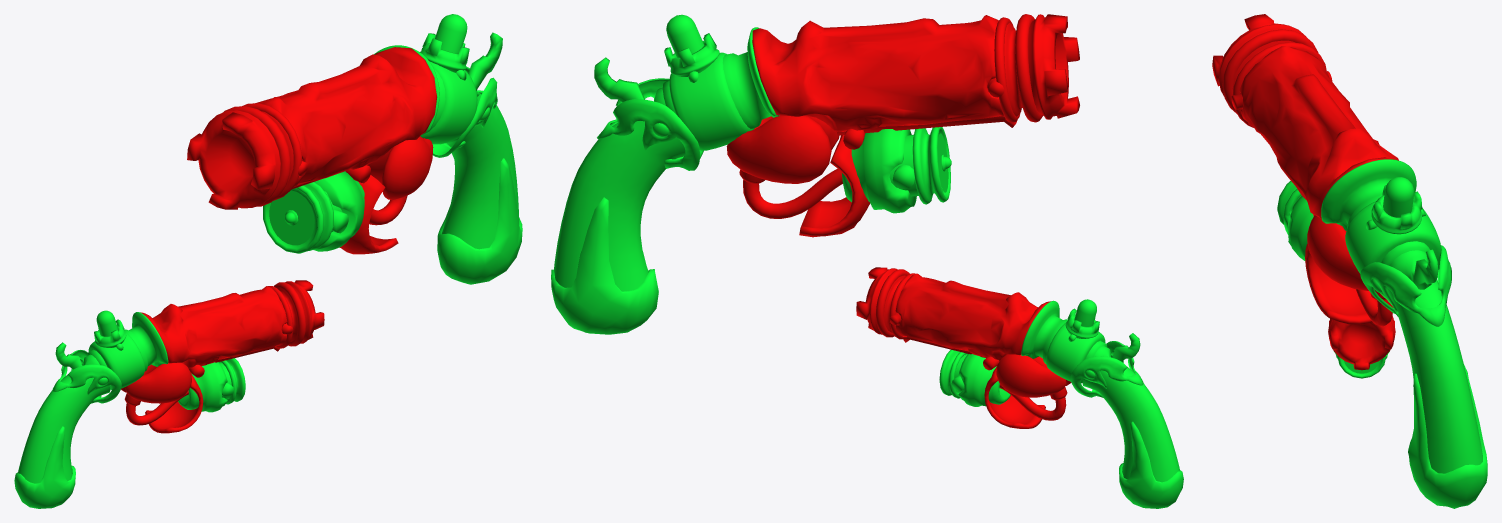
Rendered from FrostGun.fbx.
3 renders of one model, left to right at view 1: azimuth 30°, elevation 25°; view 2: azimuth 150°, elevation 25°; view 3: azimuth 270°, elevation 25°, orthographic. The views are drawn at different scales.
Visible parts, largest first — view 1: Base_low.002, Base_low.001; view 2: Base_low.002, Base_low.001; view 3: Base_low.002, Base_low.001.
Boxes of the visible parts, x1=… form: Base_low.002: x1=187, y1=14, x2=522, y2=284; Base_low.001: x1=14, y1=280, x2=324, y2=508; Base_low.002: x1=551, y1=14, x2=1079, y2=334; Base_low.001: x1=856, y1=267, x2=1183, y2=508; Base_low.002: x1=1212, y1=14, x2=1487, y2=508; Base_low.001: x1=1328, y1=313, x2=1395, y2=378.
Bounding box in the file's own units: 737 × 504 × 316.
